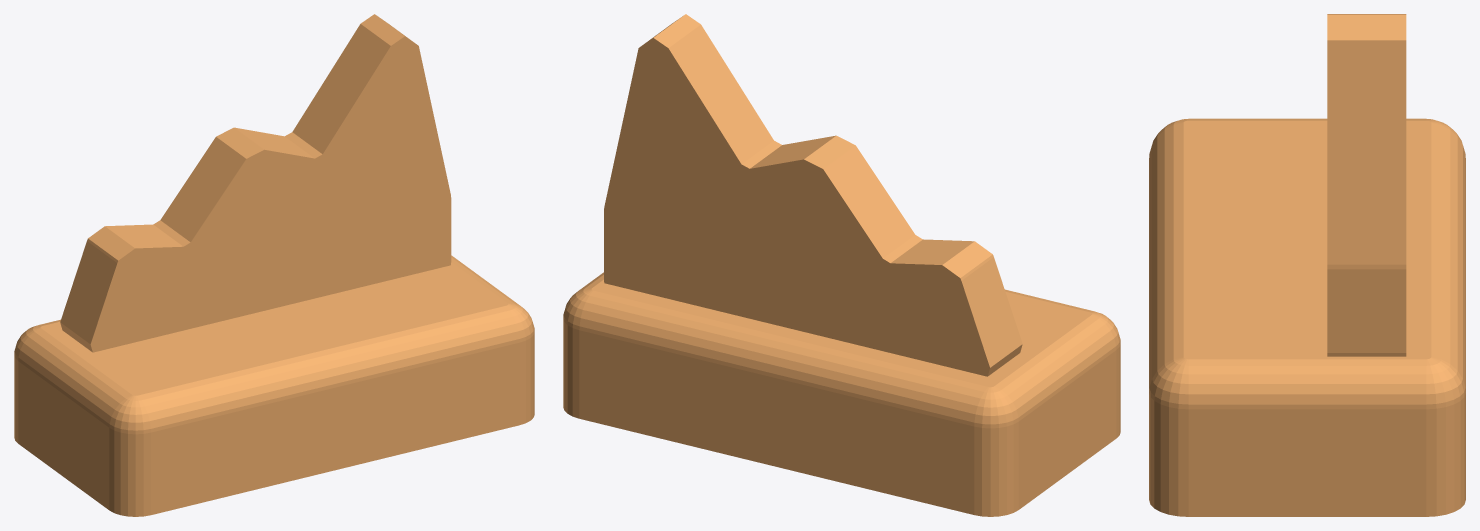
Rendered from dragon-wing.glb.
The picture shows the model from 3 angles, left to right: view 1: azimuth 30°, elevation 25°; view 2: azimuth 150°, elevation 25°; view 3: azimuth 270°, elevation 25°; orthographic projection. The views are drawn at different scales.
Parts seen in each view (by area): view 1: dragon-wing; view 2: dragon-wing; view 3: dragon-wing.
Part boxes in pixels (x1,y1,x2,y2): dragon-wing: (14,14,534,516); dragon-wing: (563,14,1120,516); dragon-wing: (1149,14,1465,516).
Bounding box in the file's own units: 0.032 × 0.0254 × 0.016.
